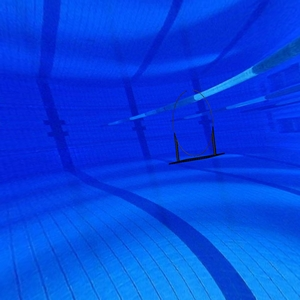circle: (167, 89, 226, 167)
